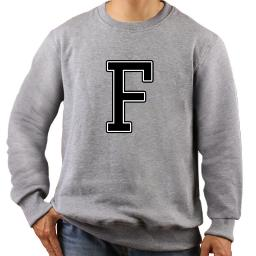f: (100, 56, 158, 140)
